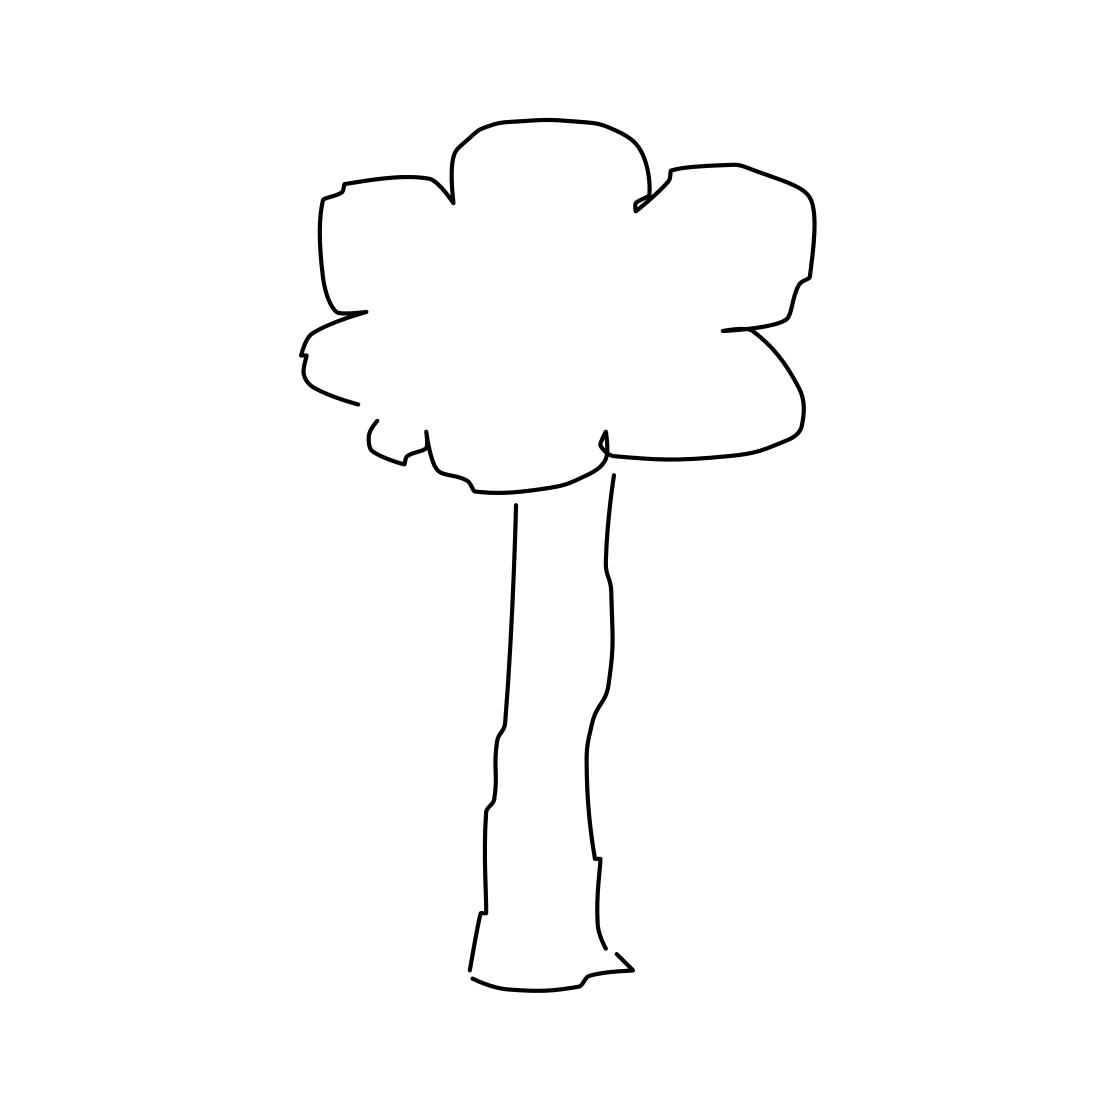Tree: (274, 69, 845, 1011)
